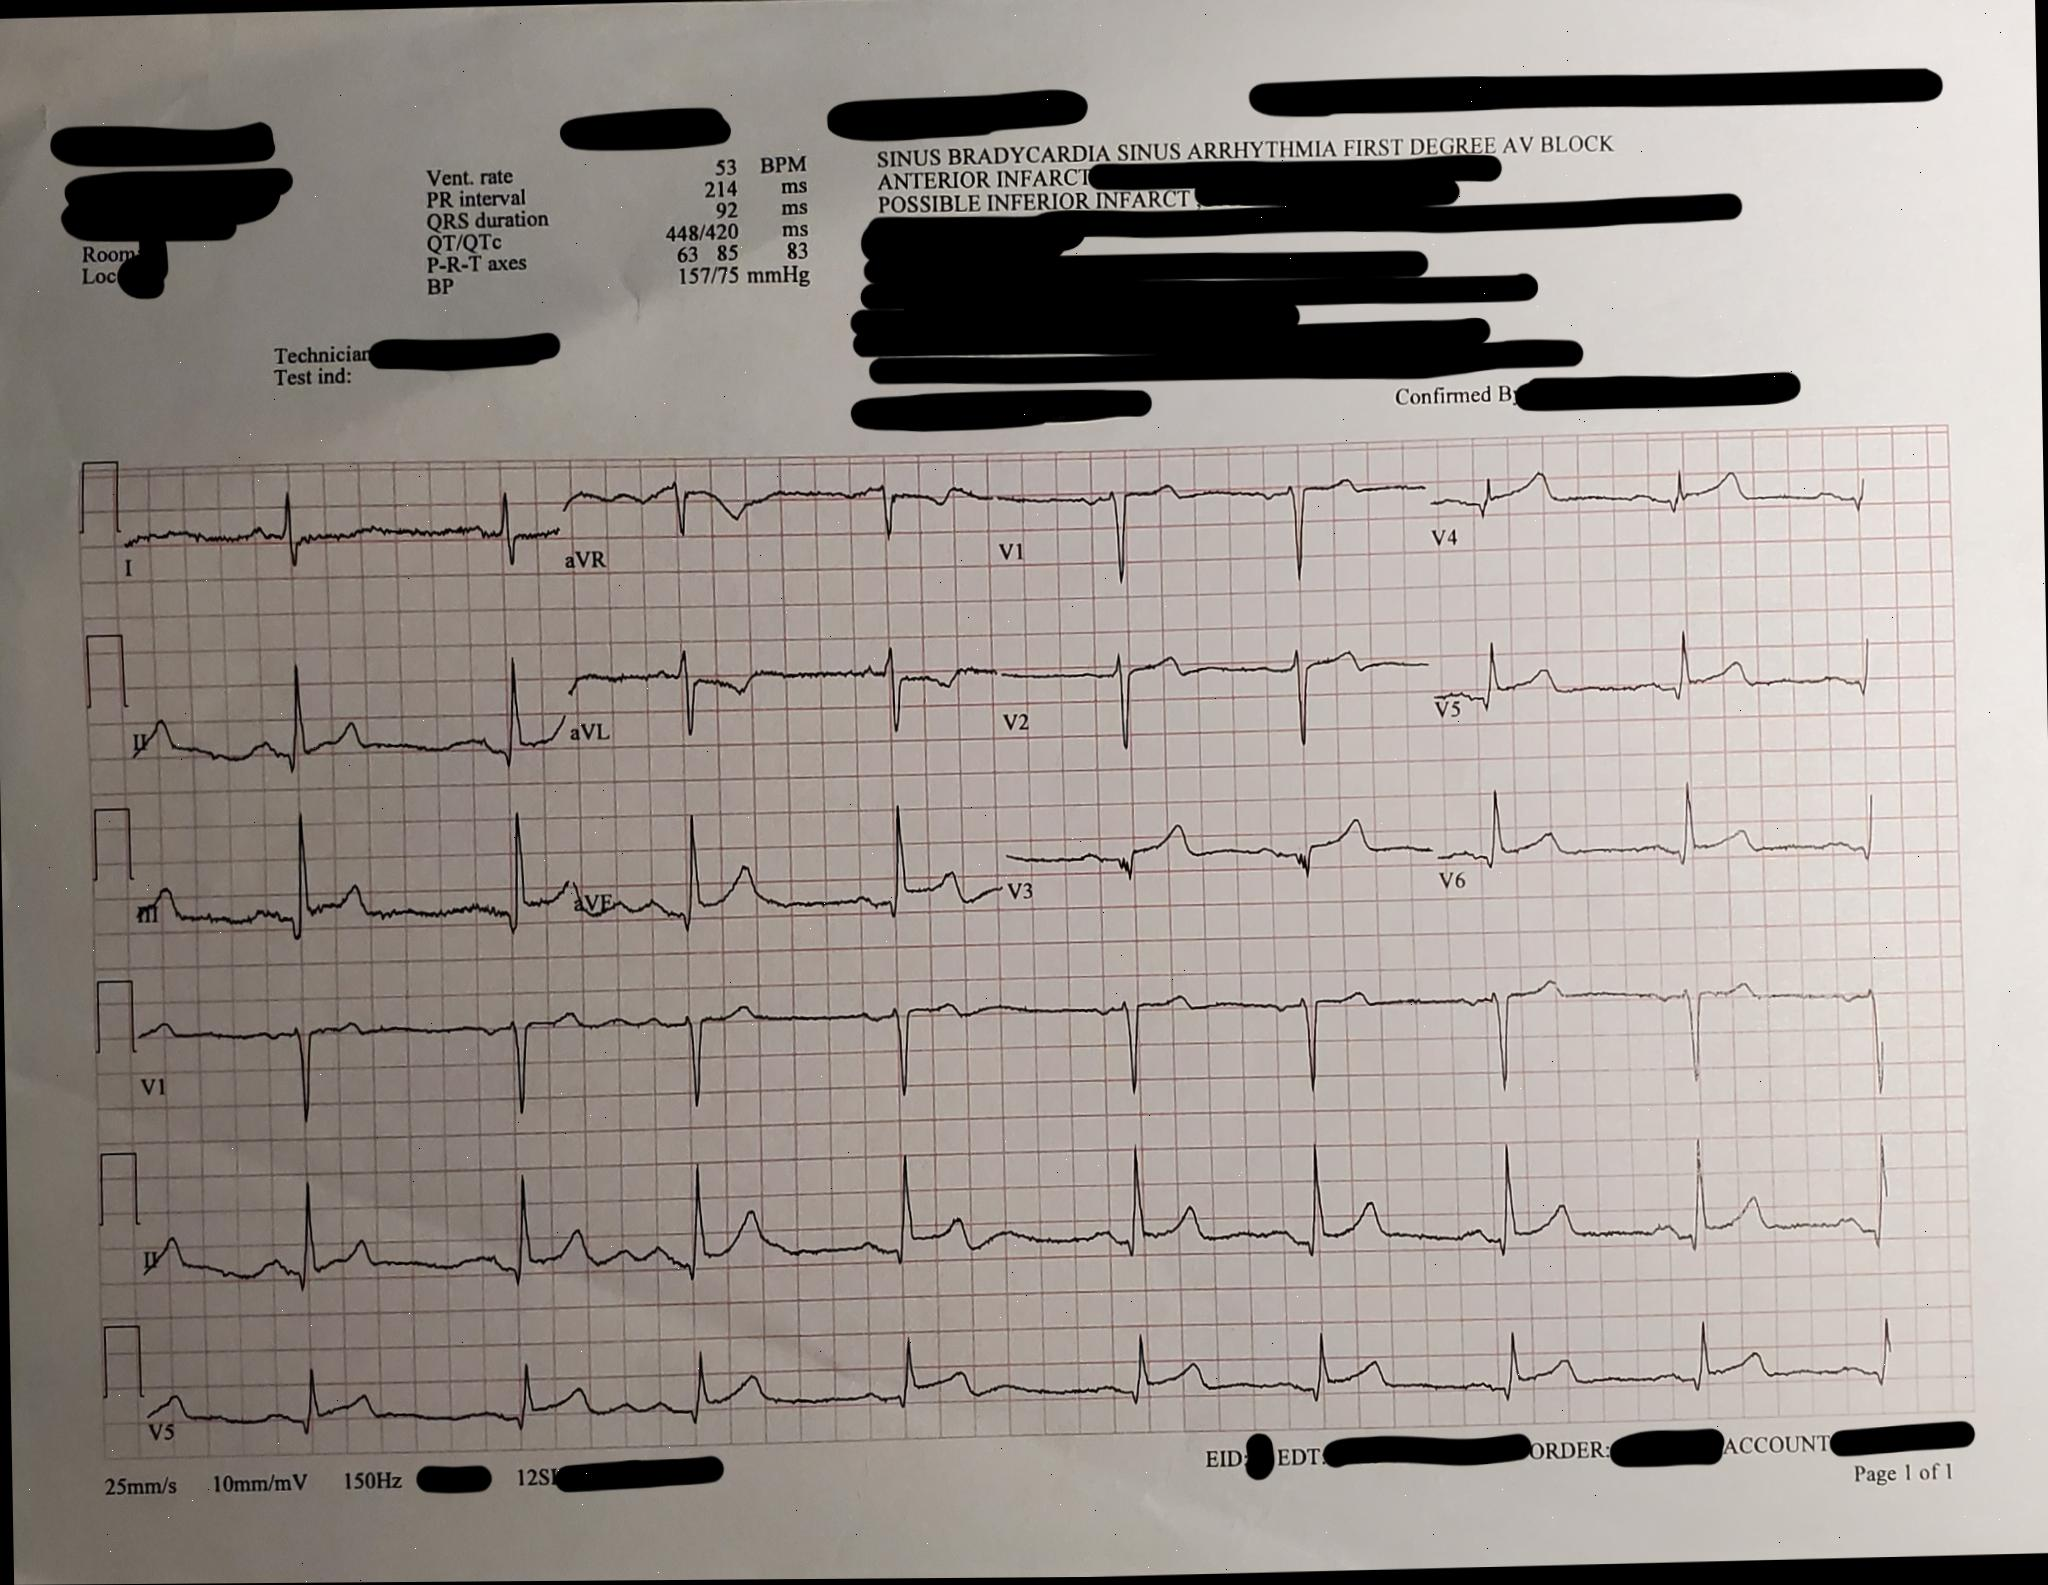Lead_I: (100, 447, 559, 600)
Lead_II: (110, 622, 565, 803)
Lead_III: (123, 805, 570, 973)
Lead_II_ext: (136, 1113, 1923, 1317)
Lead_V1: (969, 436, 1420, 612), (125, 978, 575, 1153)
Lead_V2: (972, 604, 1425, 778)
Lead_V3: (994, 773, 1436, 935)
Lead_V4: (1420, 429, 1890, 597)
Lead_V5: (1421, 590, 1893, 770)
Lead_V6: (1426, 758, 1897, 933)
Lead_aVF: (560, 783, 999, 973)
Lead_aVL: (560, 612, 971, 803)
Lead_aVR: (555, 447, 969, 597)
